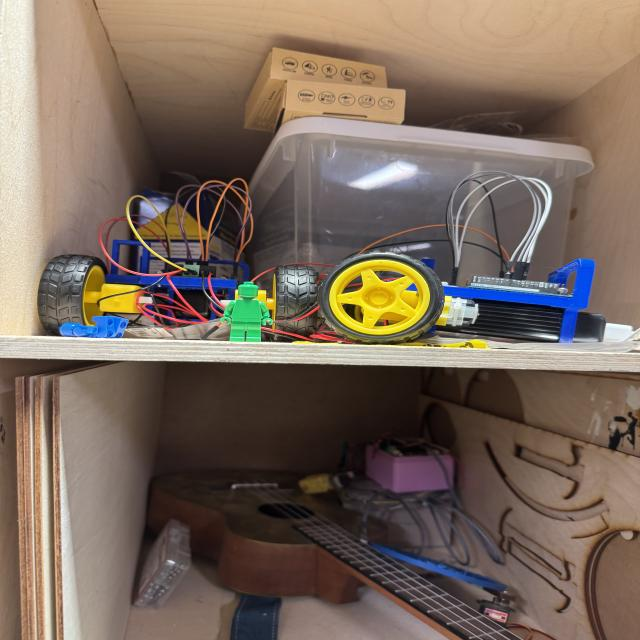Green Mini Figure: (223, 282, 272, 342)
